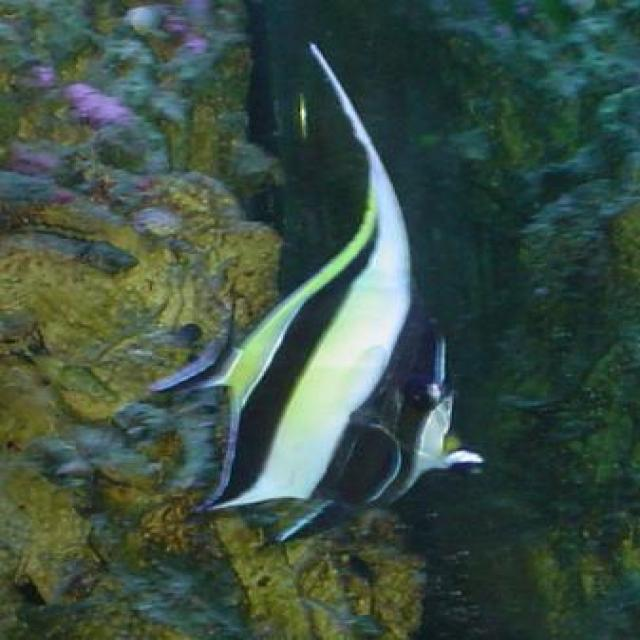MorishIdol: (147, 38, 484, 540)
